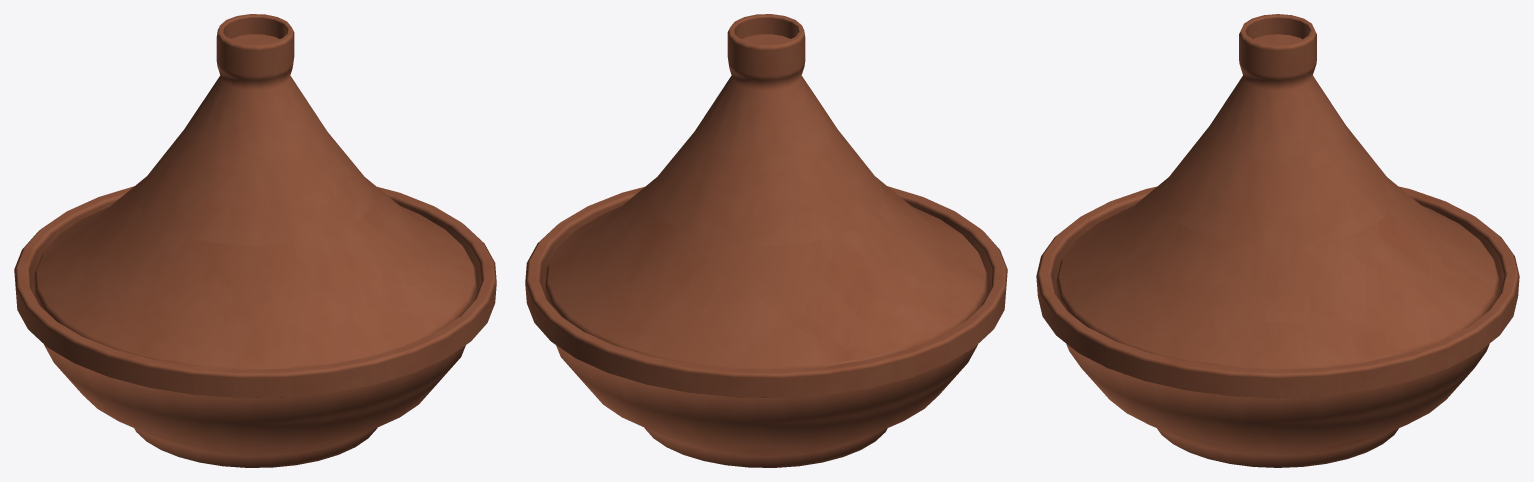
Rendered from tajine.glb.
3 views of the same model, side by side, from view 1: azimuth 30°, elevation 25°; view 2: azimuth 150°, elevation 25°; view 3: azimuth 270°, elevation 25° (orthographic).
Parts seen in each view (by area): view 1: Object_2, Object_3; view 2: Object_2, Object_3; view 3: Object_2, Object_3.
Part boxes in pixels (x1,y1,x2,y2): Object_2: (34,14,476,369); Object_3: (14,186,496,467); Object_2: (545,14,987,369); Object_3: (525,186,1007,467); Object_2: (1056,14,1499,369); Object_3: (1036,186,1519,467).
Size of the model in its own units: 3.23 by 2.84 by 3.23.
Materials: 2 (2 with a texture image).
